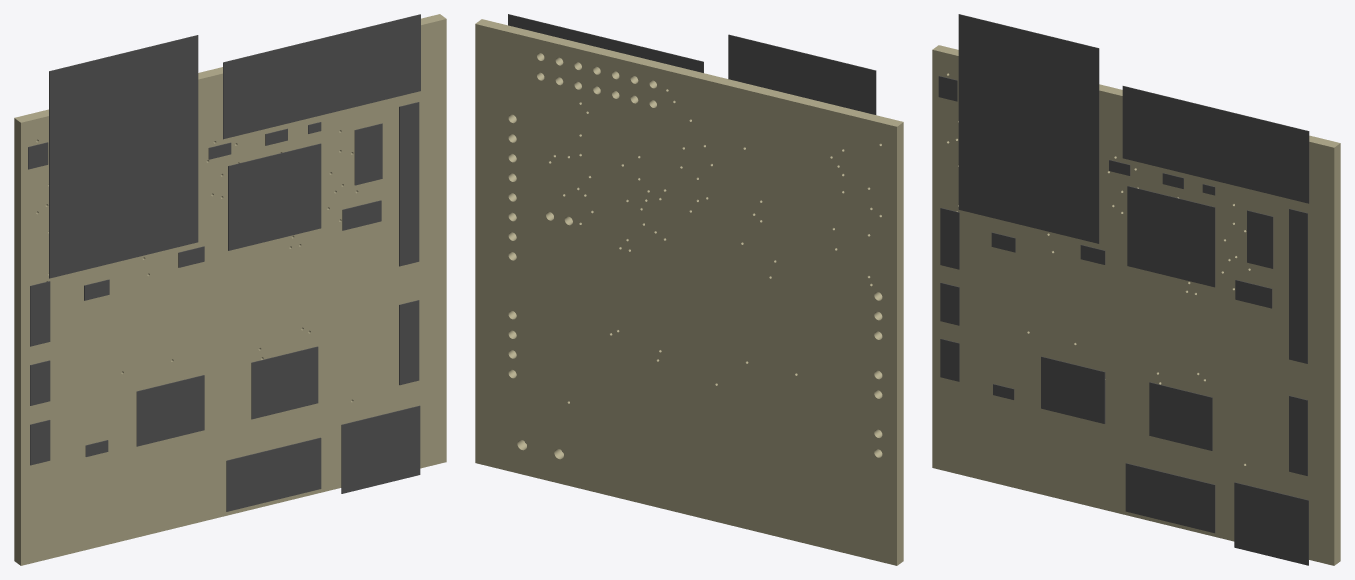
The model's file is BusBoardUnfinished.glb.
The picture shows the model from 3 angles, left to right: view 1: azimuth 30°, elevation 25°; view 2: azimuth 150°, elevation 25°; view 3: azimuth 330°, elevation 25°; orthographic projection. The views are drawn at different scales.
Visible parts, largest first — view 1: Board.001, Body1.014, Body1.020, Body1.019, Body1, Body1.001, Body1.008, Body1.016, Body1.007, Body1.006, Body1.018, Body1.005 (+3 smaller); view 2: Board.001, Body1.014, Body1.020; view 3: Board.001, Body1.014, Body1.020, Body1.019, Body1, Body1.001, Body1.008, Body1.016, Body1.007, Body1.006, Body1.018, Body1.005 (+3 smaller).
Part boxes in pixels (x1,y1,x2,y2): Board.001: (14,14,446,565); Body1.014: (49,35,198,278); Body1.020: (223,14,420,139); Body1.019: (228,143,321,250); Body1: (341,405,420,493); Body1.001: (226,437,321,511); Body1.008: (251,346,318,419); Body1.016: (136,375,204,446); Body1.007: (399,102,419,266); Body1.006: (399,300,419,385); Body1.018: (354,123,382,185); Body1.005: (30,281,50,346); Board.001: (475,19,903,565); Body1.014: (728,34,876,114); Body1.020: (508,14,703,72); Board.001: (932,45,1340,565); Body1.014: (958,14,1099,243); Body1.020: (1122,86,1309,203); Body1.019: (1127,186,1215,287); Body1: (1234,482,1308,565); Body1.001: (1125,463,1215,533); Body1.008: (1149,382,1212,450); Body1.016: (1041,356,1105,423); Body1.007: (1289,208,1307,363); Body1.006: (1289,395,1307,475); Body1.018: (1247,210,1273,268); Body1.005: (940,208,959,269).
Bounding box in the file's own units: 0.0571 × 0.0633 × 0.00167.
